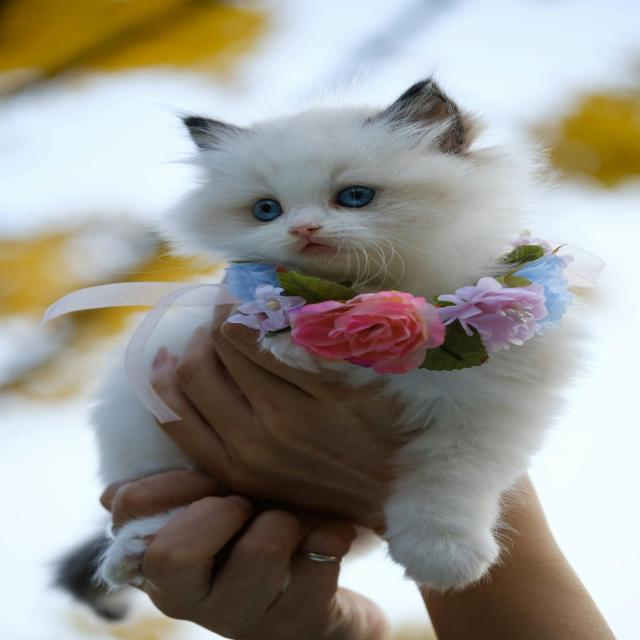Cat: (59, 71, 597, 618)
